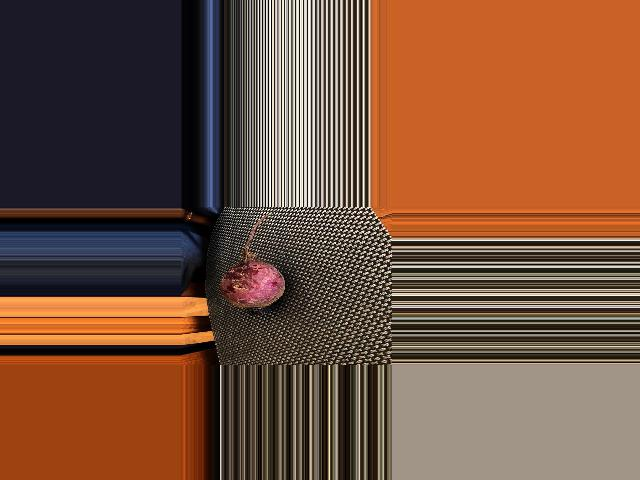beet: (219, 215, 284, 316)
